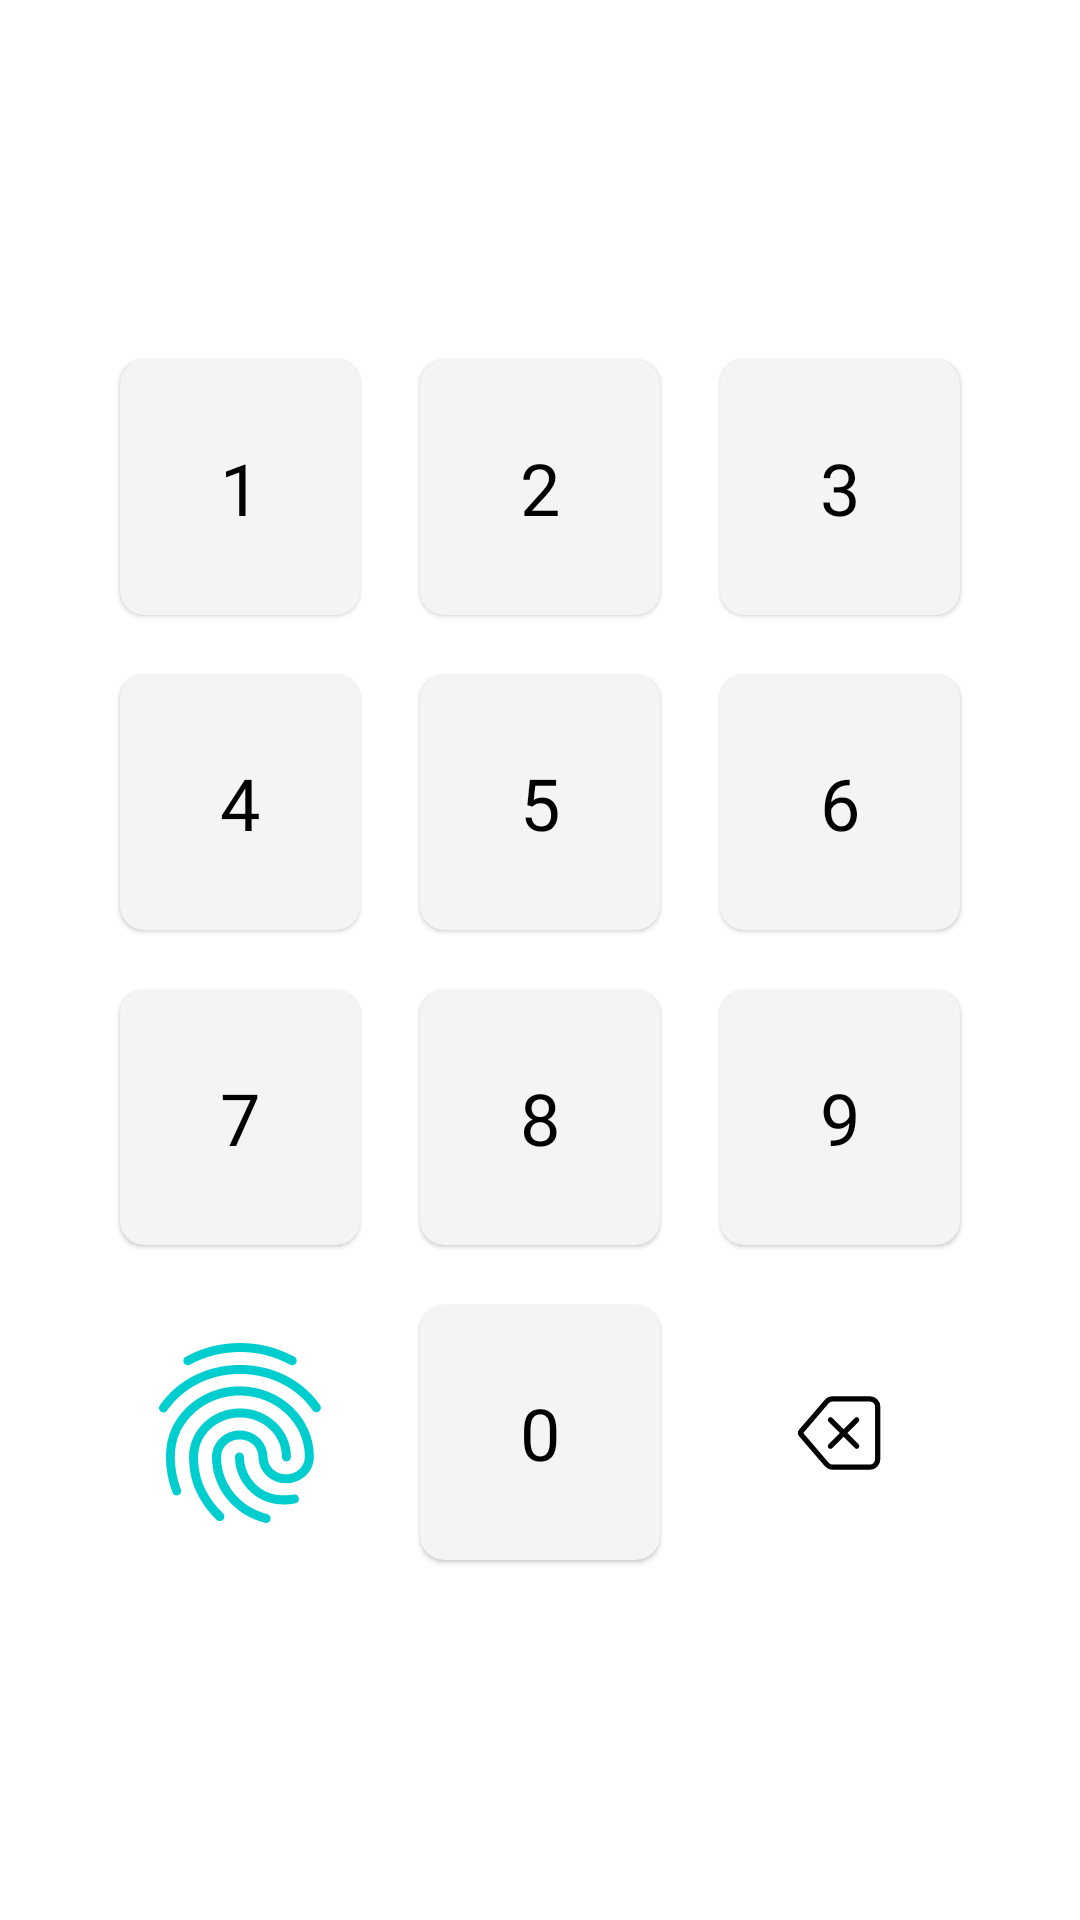

Screen size 1080 × 1920. Icon name, then its center in pixels as [x,y]:
backspace: [839,1433]
ingerprint: [240,1433]
